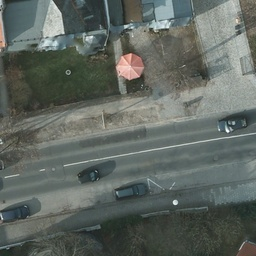car: (114, 183, 151, 201), (74, 166, 101, 185), (217, 115, 244, 134), (1, 206, 30, 222)
